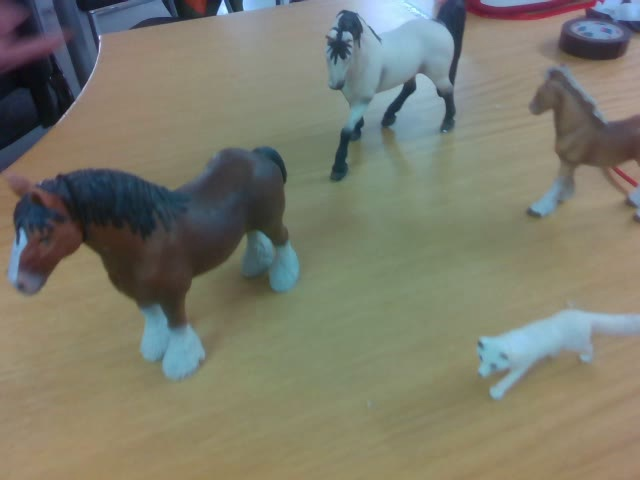toy: (7, 146, 297, 382), (324, 1, 472, 182), (475, 307, 640, 399)
